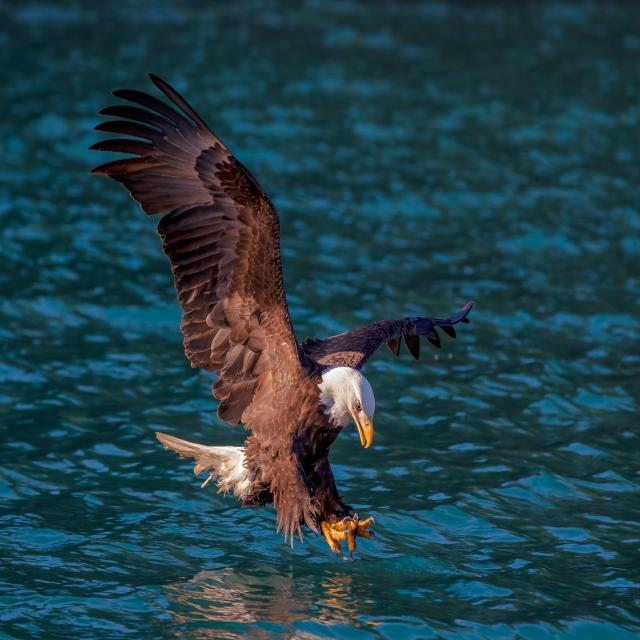Eagle: (88, 69, 468, 556)
